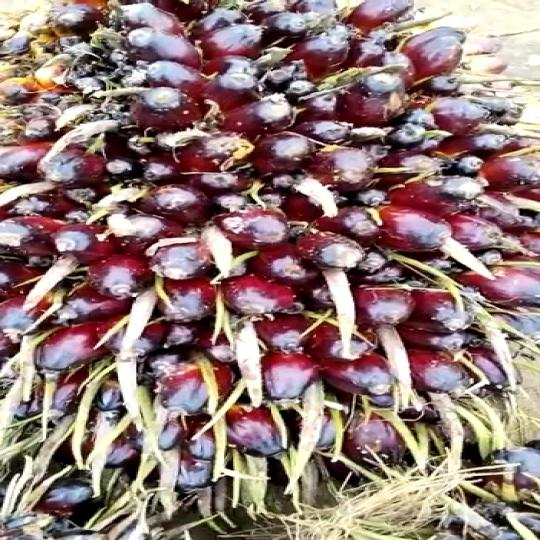mentah: (0, 0, 540, 527)
